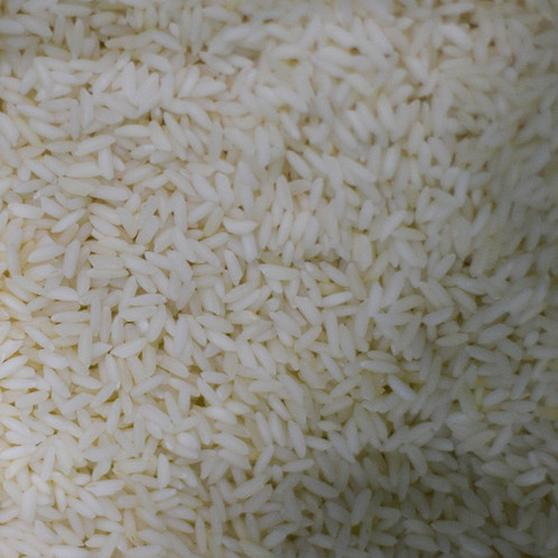rice: (44, 64, 454, 430)
